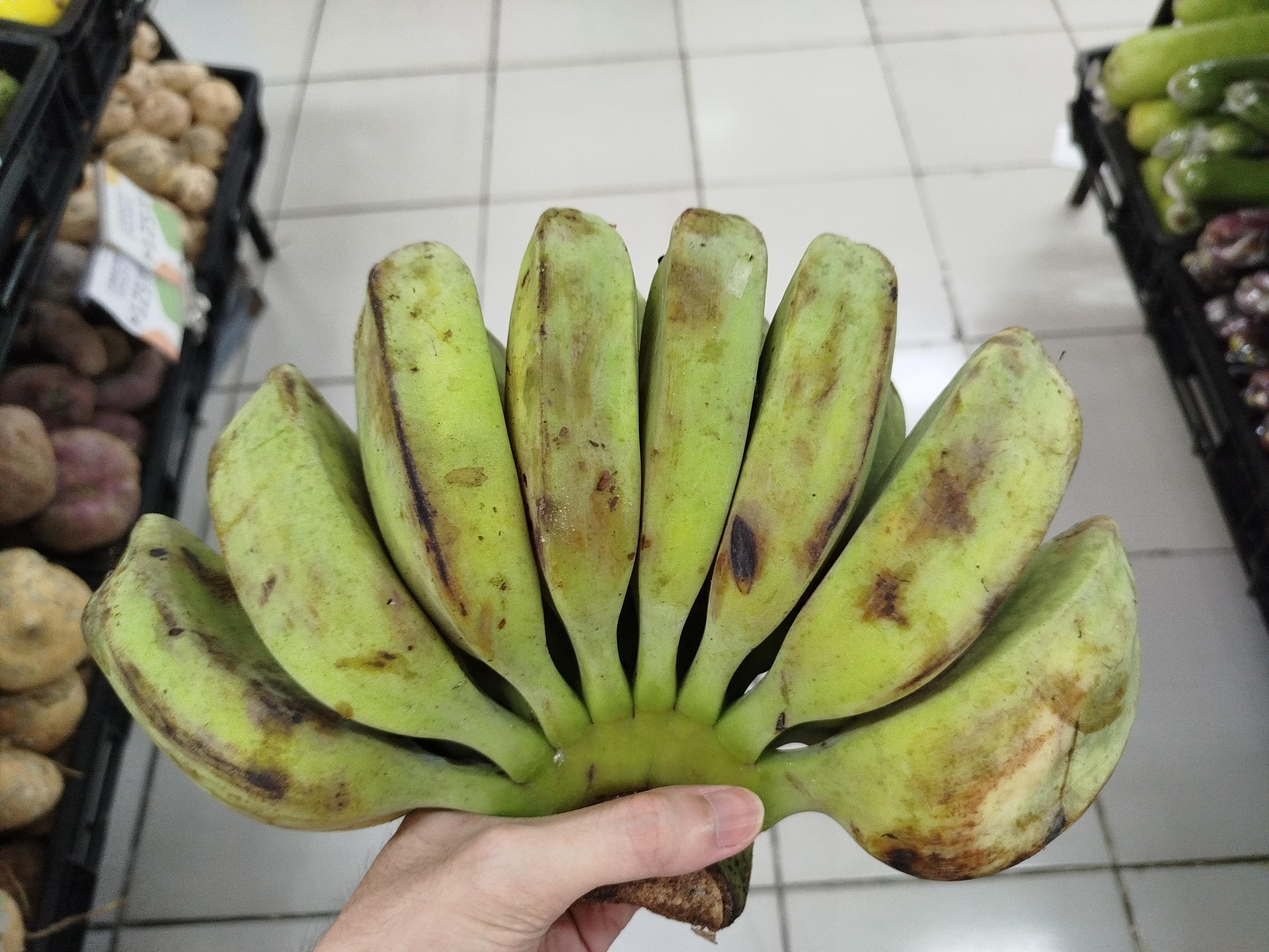underripe: (83, 208, 1139, 880)
